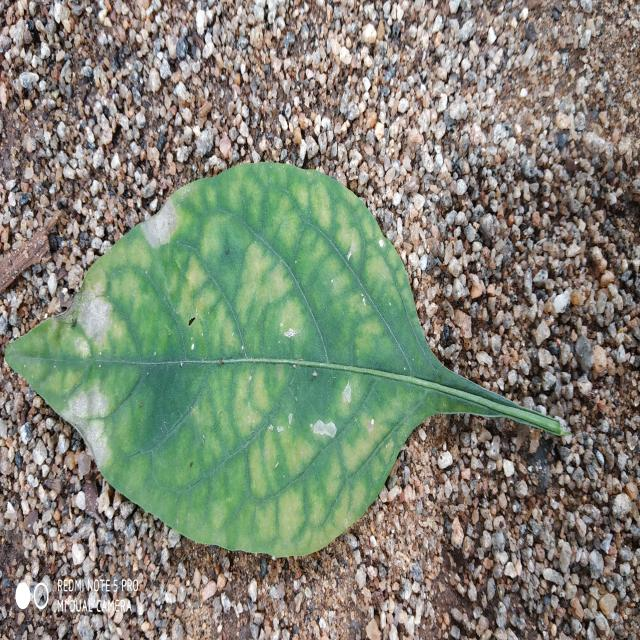ganike: (6, 164, 565, 556)
